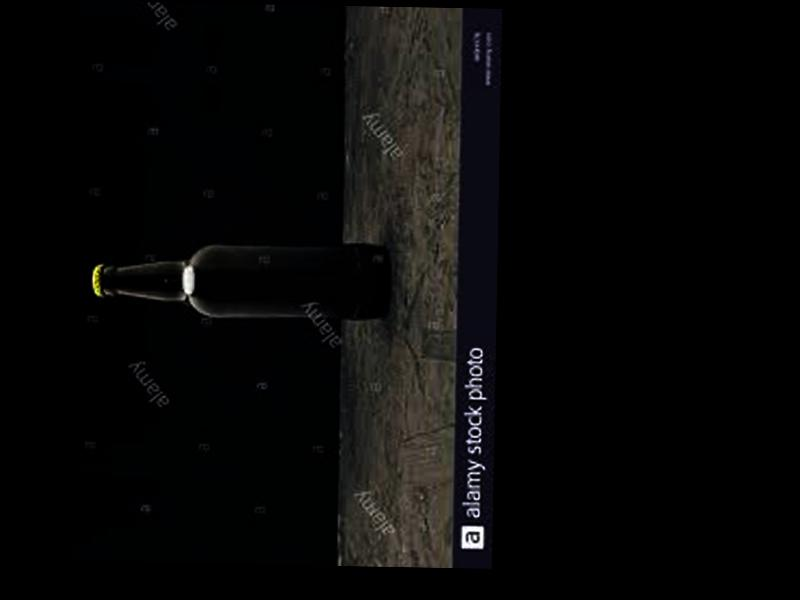Beer: (92, 240, 388, 314)
